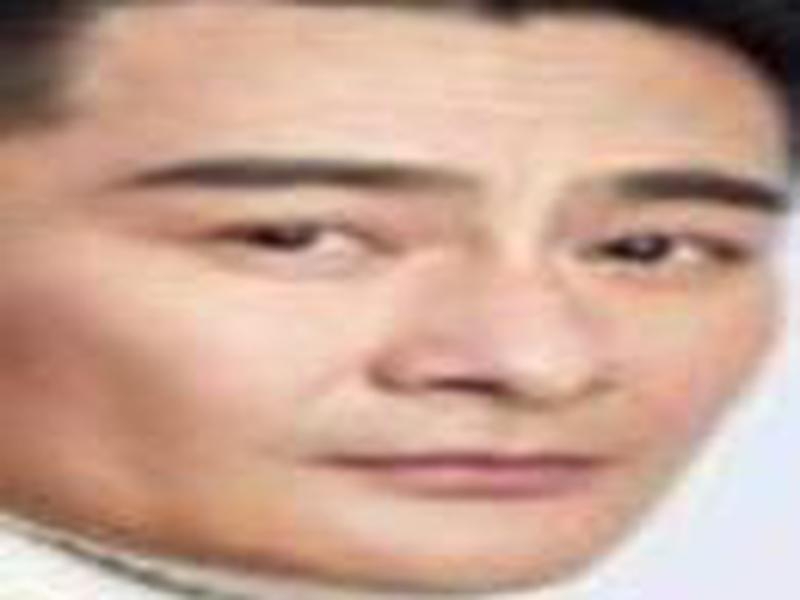without_mask: (29, 12, 791, 600)
